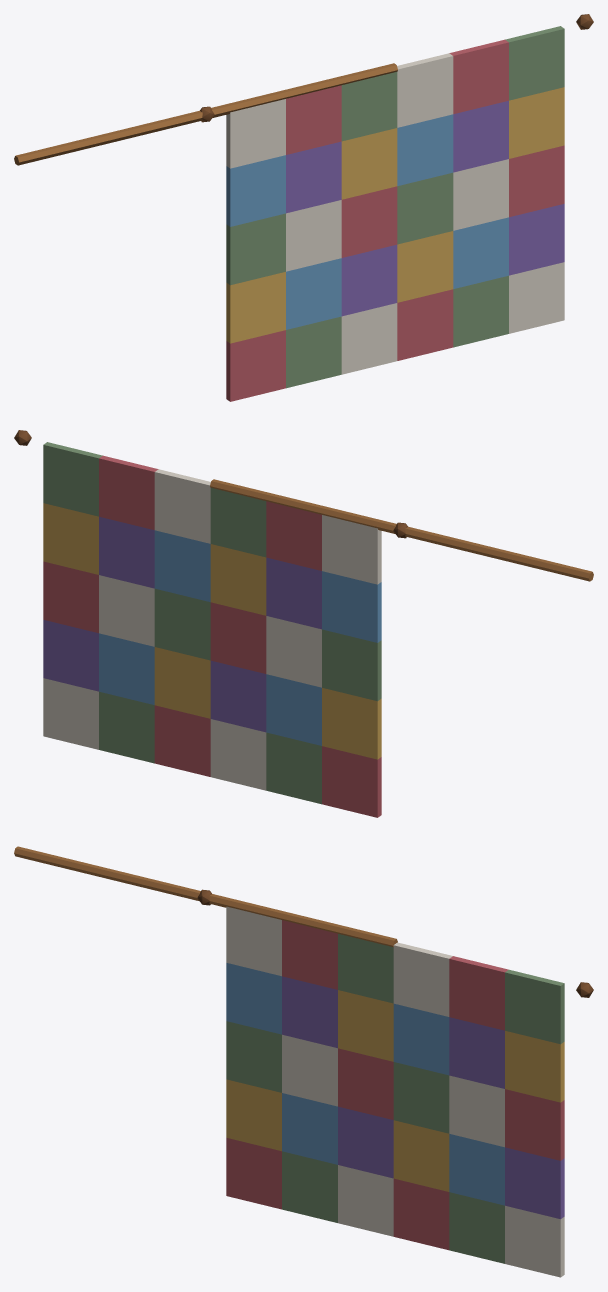
The model's file is quilt_hanging.glb.
3 views of the same model, one above another, from view 1: azimuth 30°, elevation 25°; view 2: azimuth 150°, elevation 25°; view 3: azimuth 330°, elevation 25° (orthographic).
Parts seen in each view (by area): view 1: furniture-quilt_hanging; view 2: furniture-quilt_hanging; view 3: furniture-quilt_hanging.
Part boxes in pixels (x1,y1,x2,y2): furniture-quilt_hanging: (14,14,593,401); furniture-quilt_hanging: (14,430,593,817); furniture-quilt_hanging: (14,846,593,1277).
Size of the model in its own units: 1.94 by 0.9623 by 0.0448.
